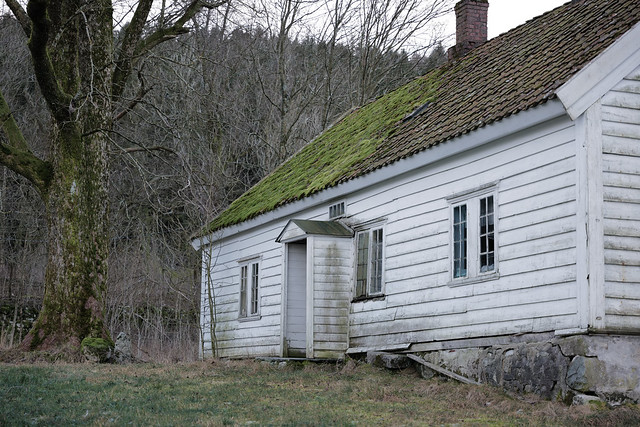medium: (193, 3, 640, 396)
